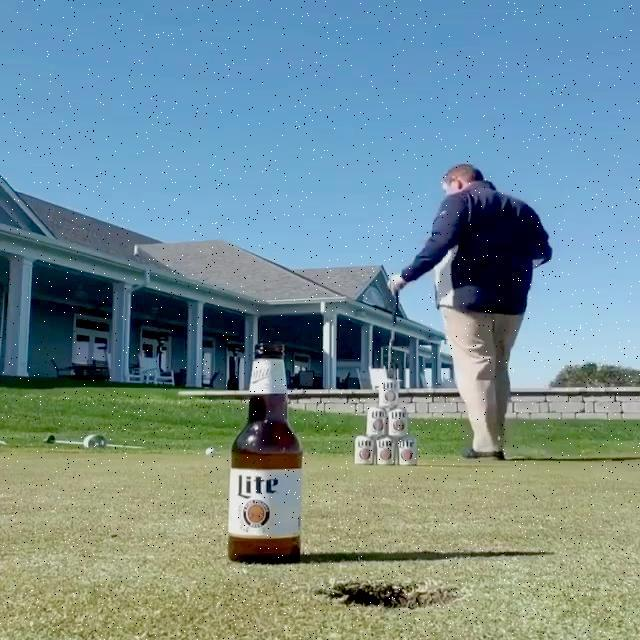golf ball: (205, 447, 215, 455)
